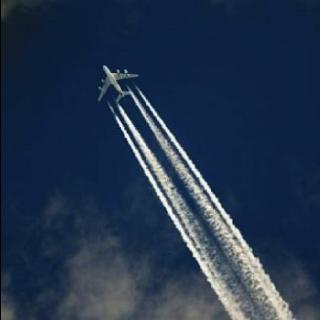Contrails: (92, 99, 306, 320)
